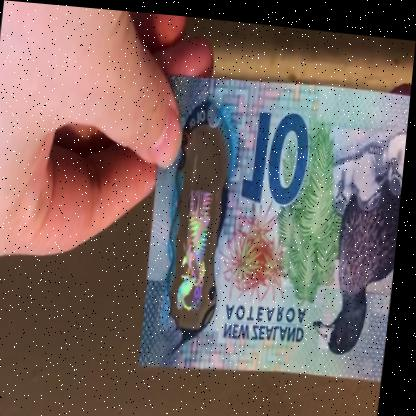10F: (177, 132, 227, 316)
